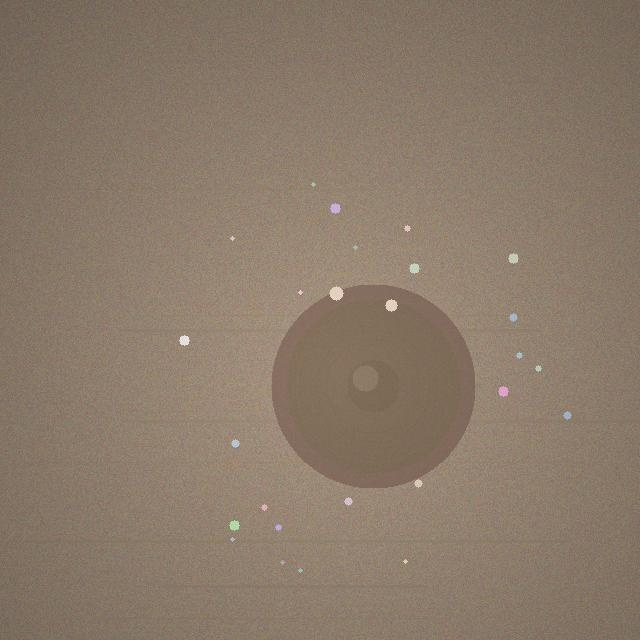overburn: (271, 284, 475, 488)
